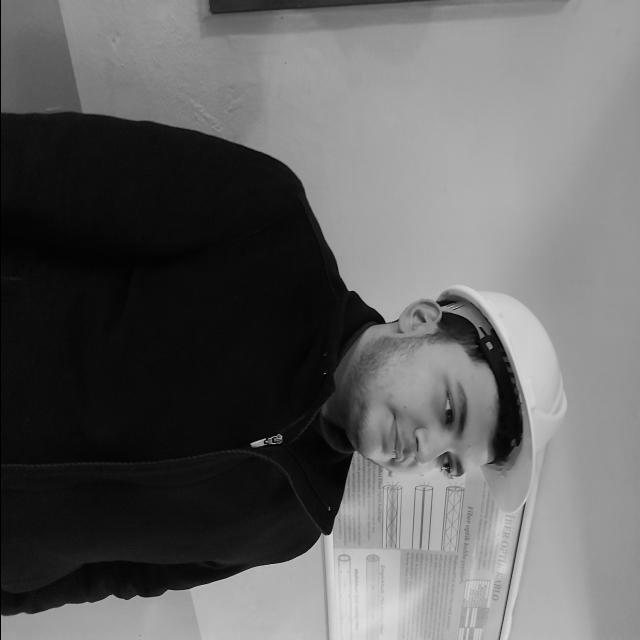construction helmet: (435, 285, 562, 512)
